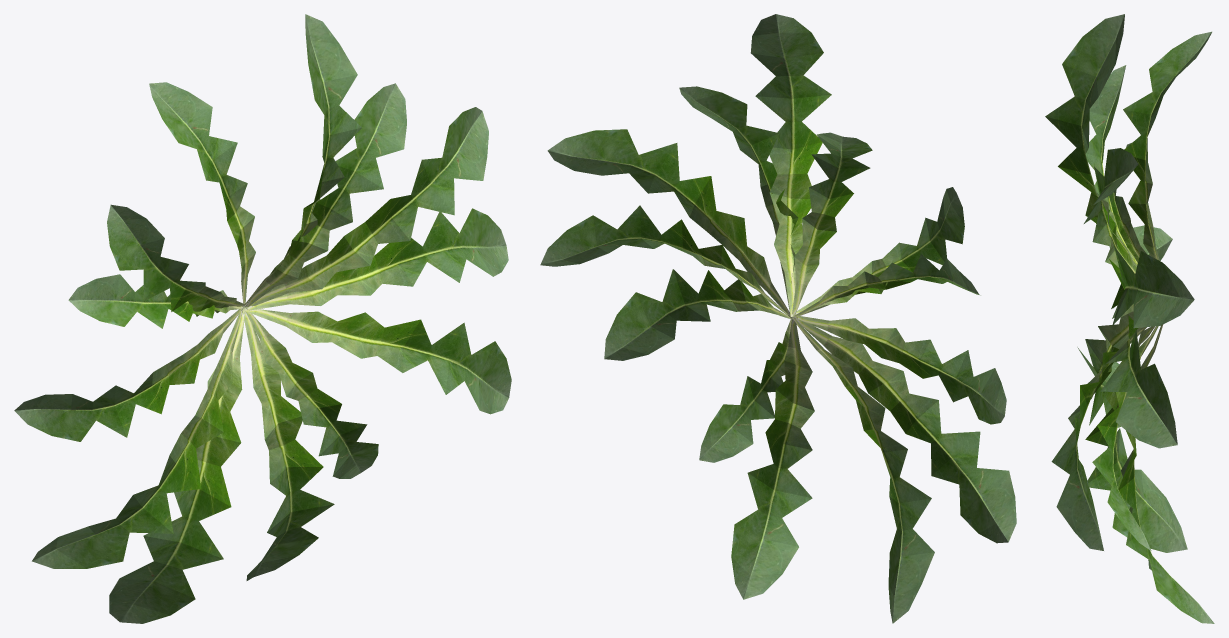
The model's file is taraxacum_03.obj.
The picture shows the model from 3 angles, left to right: view 1: azimuth 30°, elevation 25°; view 2: azimuth 150°, elevation 25°; view 3: azimuth 270°, elevation 25°; orthographic projection. The views are drawn at different scales.
Visible parts, largest first — view 1: taraxacum.002; view 2: taraxacum.002; view 3: taraxacum.002.
Part boxes in pixels (x1,y1,x2,y2): taraxacum.002: (14,14,511,623); taraxacum.002: (540,14,1016,623); taraxacum.002: (1045,14,1214,623).
Size of the model in its own units: 0.3197 by 0.3662 by 0.0917.
